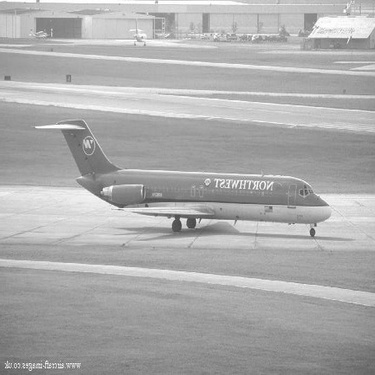airplane: (19, 101, 345, 255)
